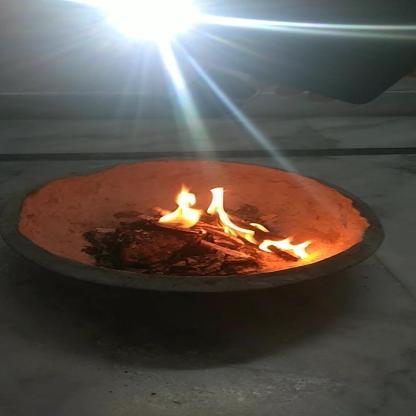fire: (151, 184, 309, 258)
